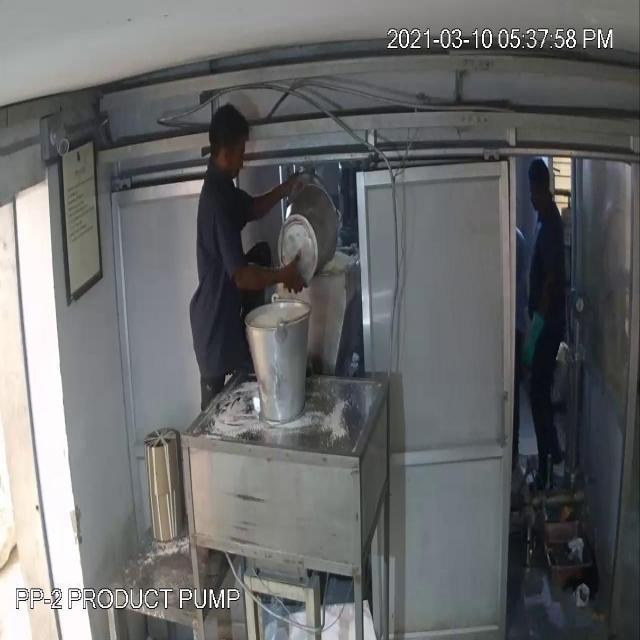No_Gloves: (62, 60, 277, 278)
